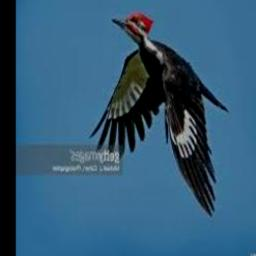Woodpecker: (89, 12, 229, 217)
